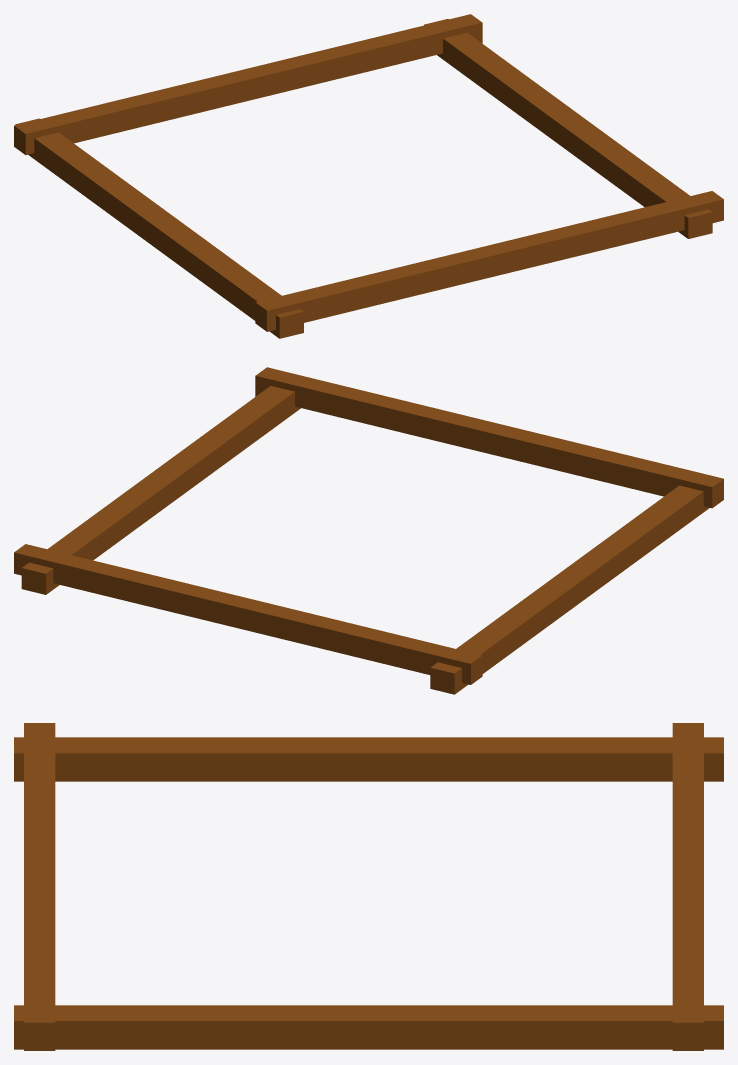
Rendered from orchard.fbx.
The picture shows the model from 3 angles, top to bottom: view 1: azimuth 30°, elevation 25°; view 2: azimuth 150°, elevation 25°; view 3: azimuth 270°, elevation 25°; orthographic projection. The views are drawn at different scales.
Parts seen in each view (by area): view 1: polySurface22; view 2: polySurface22; view 3: polySurface22.
Part boxes in pixels (x1=…): polySurface22: x1=14, y1=14, x2=723, y2=338; polySurface22: x1=14, y1=367, x2=723, y2=694; polySurface22: x1=14, y1=723, x2=723, y2=1050.
Size of the model in its own units: 199 by 11.47 by 200.
1 material, 1 textured.
